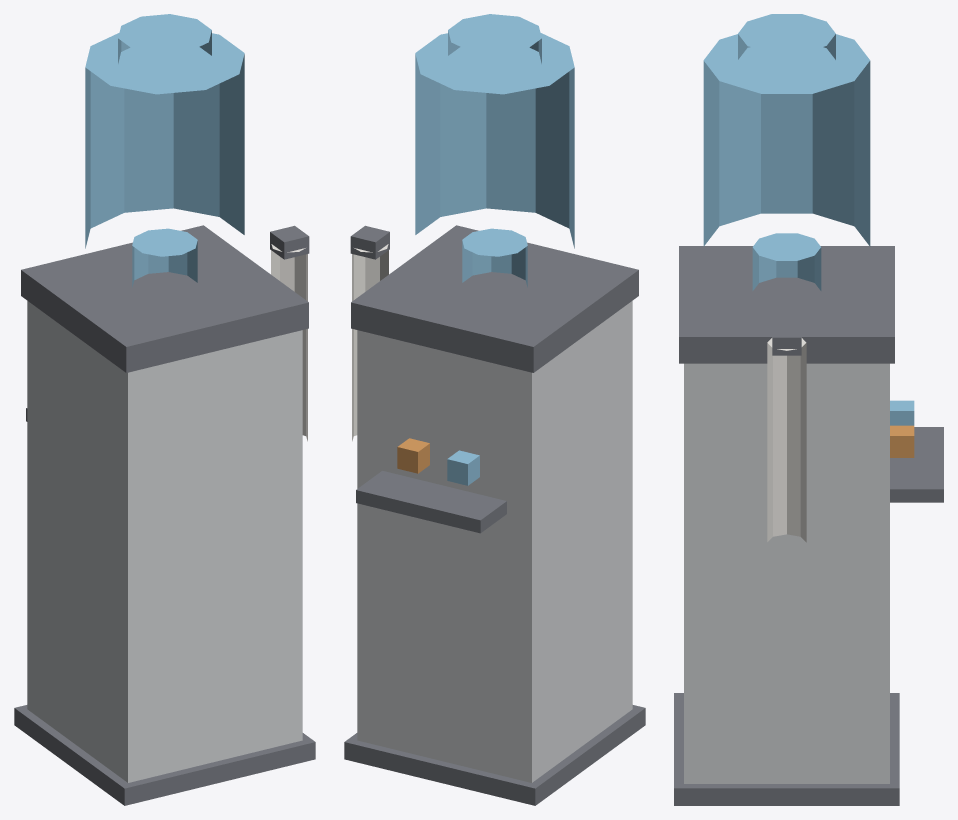
The model's file is water_station.glb.
3 views of the same model, side by side, from view 1: azimuth 30°, elevation 25°; view 2: azimuth 150°, elevation 25°; view 3: azimuth 270°, elevation 25° (orthographic). The views are drawn at different scales.
Visible parts, largest first — view 1: water; view 2: water; view 3: water.
Part boxes in pixels (<box>): water: <box>14,14,315,805</box>; water: <box>344,14,645,805</box>; water: <box>674,14,943,805</box>.
Bounding box in the file's own units: 0.57 × 1.63 × 0.55.
